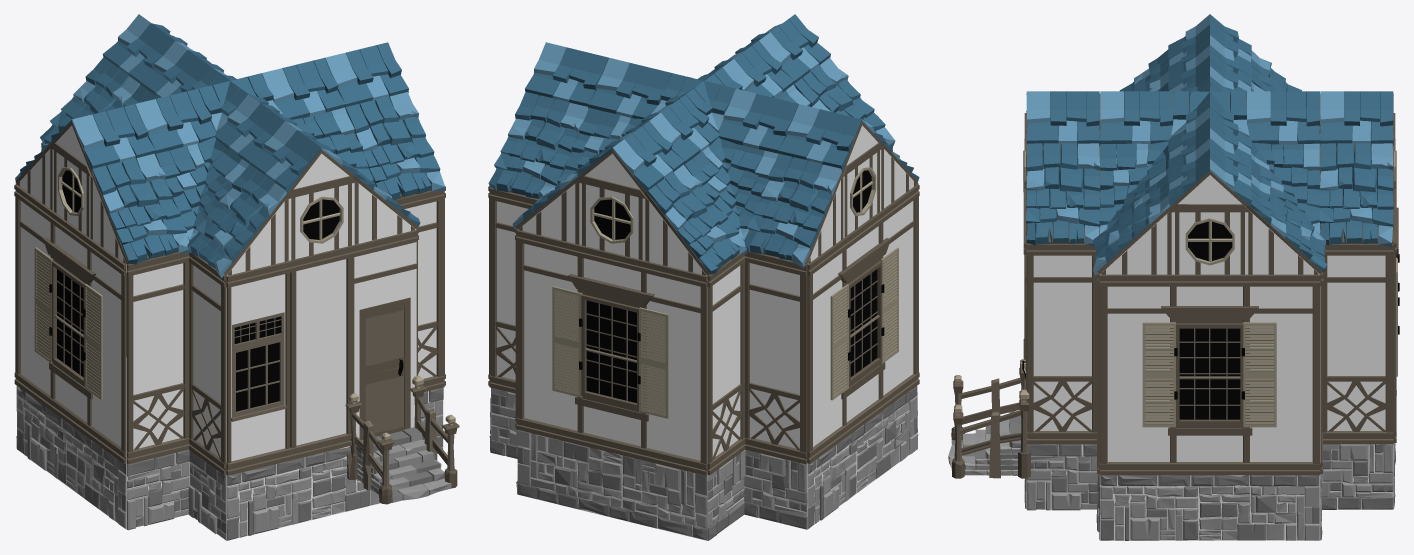
File: House_02_full.fbx
3 renders of one model, left to right at view 1: azimuth 30°, elevation 25°; view 2: azimuth 150°, elevation 25°; view 3: azimuth 270°, elevation 25°, orthographic.
Visible parts, largest first — view 1: WINDOW_07_2, WINDOW_04_2, WALL_03_2, WALL_04_3, DOOR_01_2, FOUNDATION_02_10, STAIRS_06_5, WALL_04_2, FOUNDATION_02_11, ROOF_base_3, ROOF_base_5, WALL_04_8 (+26 smaller); view 2: WINDOW_07_3, WINDOW_07_2, WALL_04_4, FOUNDATION_02_12, WALL_04_5, FOUNDATION_02_11, ROOF_base_9, ROOF_base_7, WALL_04_7, ROOF_base_8, ROOF_inner_corner_5, FOUNDATION_03_12 (+24 smaller); view 3: WINDOW_07_4, FOUNDATION_02_13, WALL_04_6, WALL_04_9, ROOF_base_6, ROOF_base_4, STAIRS_06_5, FOUNDATION_03_14, ROOF_Window_round_2, FOUNDATION_03_17, ROOF_inner_corner_4, ROOF_inner_corner_3 (+24 smaller).
Boxes of the visible parts, box(x1,y1,x2,y2) form: WINDOW_07_2: box(14, 184, 126, 463); WINDOW_04_2: box(226, 260, 291, 475); WALL_03_2: box(290, 245, 354, 460); WALL_04_3: box(126, 252, 189, 464); DOOR_01_2: box(353, 229, 417, 440); FOUNDATION_02_10: box(226, 446, 380, 540); STAIRS_06_5: box(345, 375, 459, 504); WALL_04_2: box(189, 252, 226, 475); FOUNDATION_02_11: box(17, 386, 126, 529); ROOF_base_3: box(90, 153, 189, 264); ROOF_base_5: box(345, 92, 445, 200); WALL_04_8: box(394, 190, 444, 392); WINDOW_07_3: box(516, 230, 707, 475); WINDOW_07_2: box(807, 184, 919, 463); WALL_04_4: box(744, 251, 807, 464); FOUNDATION_02_12: box(517, 430, 707, 540); WALL_04_5: box(707, 253, 745, 475); FOUNDATION_02_11: box(807, 386, 918, 528); ROOF_base_9: box(744, 153, 843, 267); ROOF_base_7: box(488, 92, 588, 198); WALL_04_7: box(489, 187, 538, 393); ROOF_base_8: box(644, 164, 747, 275); ROOF_inner_corner_5: box(684, 137, 778, 240); FOUNDATION_03_12: box(744, 450, 808, 529); WINDOW_07_4: box(1100, 274, 1320, 475); FOUNDATION_02_13: box(1100, 475, 1320, 540); WALL_04_6: box(1322, 243, 1393, 444); WALL_04_9: box(1026, 243, 1097, 444); ROOF_base_6: box(1319, 142, 1393, 247); ROOF_base_4: box(1026, 142, 1100, 246); STAIRS_06_5: box(948, 359, 1030, 478); FOUNDATION_03_14: box(1321, 444, 1393, 509); ROOF_Window_round_2: box(1173, 212, 1246, 274); FOUNDATION_03_17: box(1026, 444, 1097, 510); ROOF_inner_corner_4: box(1251, 141, 1320, 234); ROOF_inner_corner_3: box(1099, 141, 1169, 234).
Size of the model in its own units: 517 by 559 by 615.
